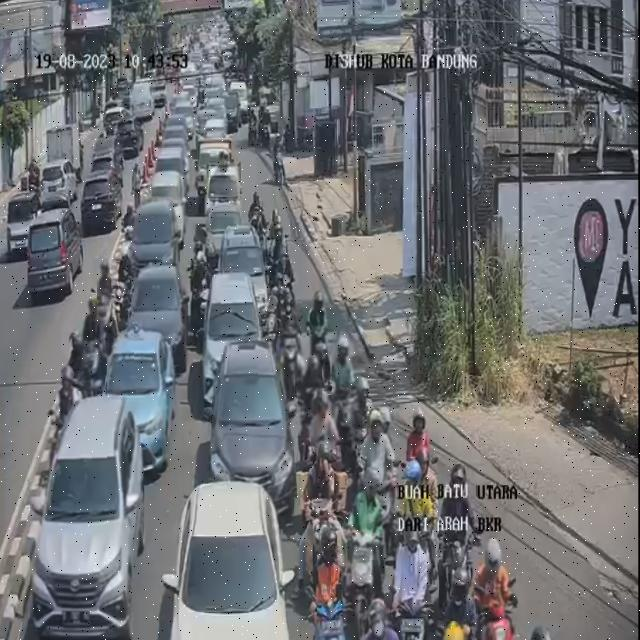cars: (30, 394, 143, 639), (167, 480, 298, 640), (212, 336, 294, 524), (107, 328, 178, 468), (200, 272, 258, 402), (134, 259, 188, 365), (221, 227, 267, 320), (128, 196, 180, 277), (202, 196, 239, 261), (152, 170, 188, 234), (206, 163, 240, 222), (158, 144, 190, 200), (197, 140, 228, 195), (162, 118, 188, 148), (171, 94, 193, 126)
motorcycle: (440, 462, 478, 618), (348, 473, 384, 628), (316, 524, 364, 640), (367, 416, 399, 560), (391, 517, 428, 640), (473, 539, 516, 640), (307, 522, 343, 626), (332, 335, 362, 445), (400, 409, 428, 516), (76, 295, 105, 391), (306, 444, 336, 536), (312, 395, 342, 481), (298, 338, 322, 436), (276, 305, 300, 381), (190, 244, 211, 320), (312, 282, 334, 353), (97, 259, 116, 338), (523, 614, 570, 640), (110, 264, 127, 334), (262, 272, 280, 337), (56, 366, 78, 419), (275, 269, 292, 328), (372, 594, 392, 640), (117, 248, 134, 301), (194, 242, 212, 289), (266, 211, 281, 267), (269, 227, 285, 277), (250, 192, 264, 240), (435, 621, 469, 640)
